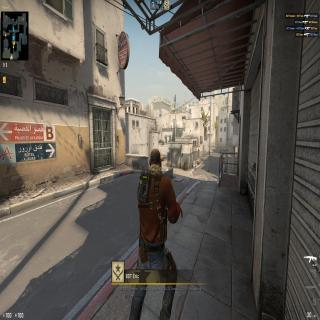T-Head: (148, 145, 163, 172)
